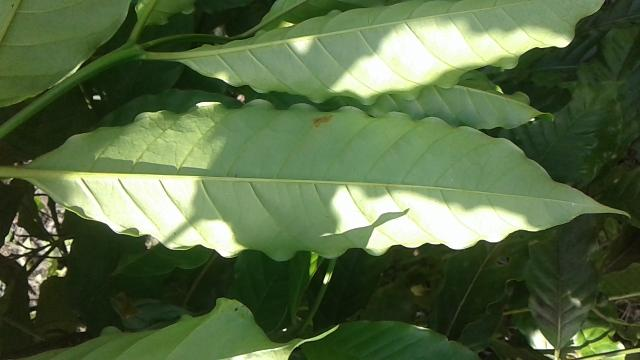rust_level_1: (22, 97, 638, 265)
